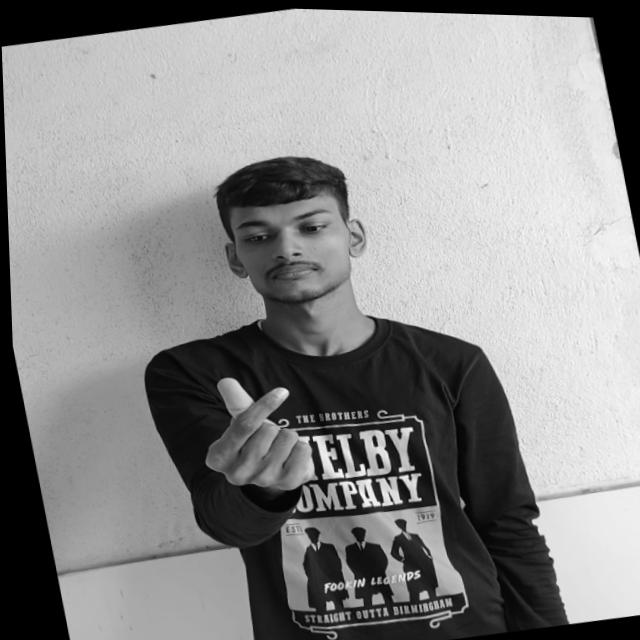Grattitude: (190, 362, 328, 498)
